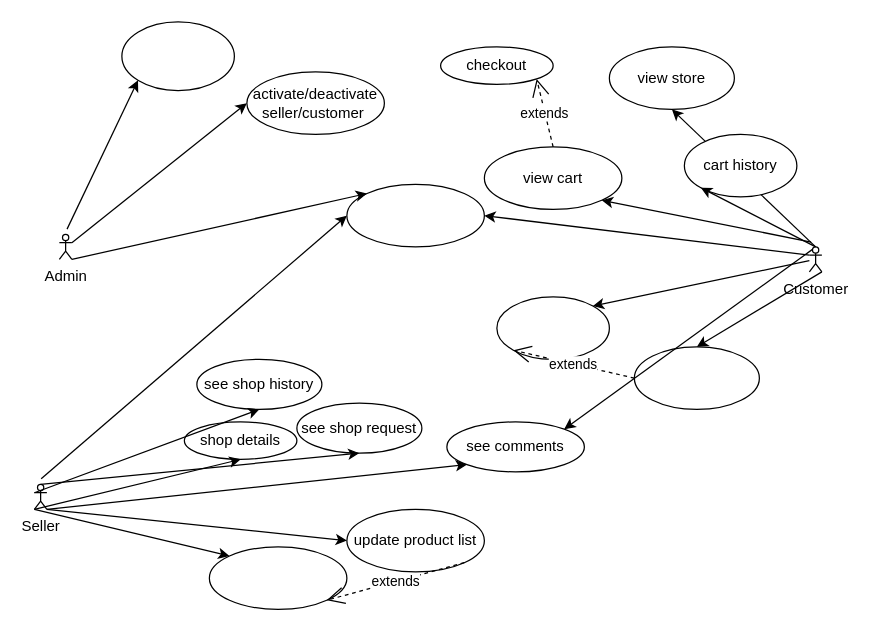
The diagram is 870 pixels wide and 640 high, and some of its shapes have lost their labels. The shapes that lost their labels are listed below. From the top down, each one's centre as x and y in pixels, then its label:
the point at 177,56: manage catalogs
the point at 415,215: edit user information
the point at 552,327: view product
the point at 696,377: view product list
the point at 277,577: add/remove/update product
